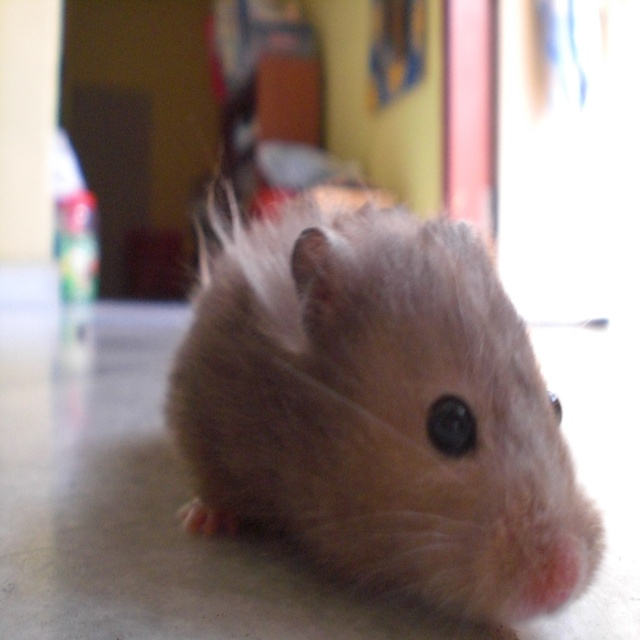Mouse: (163, 164, 599, 639)
